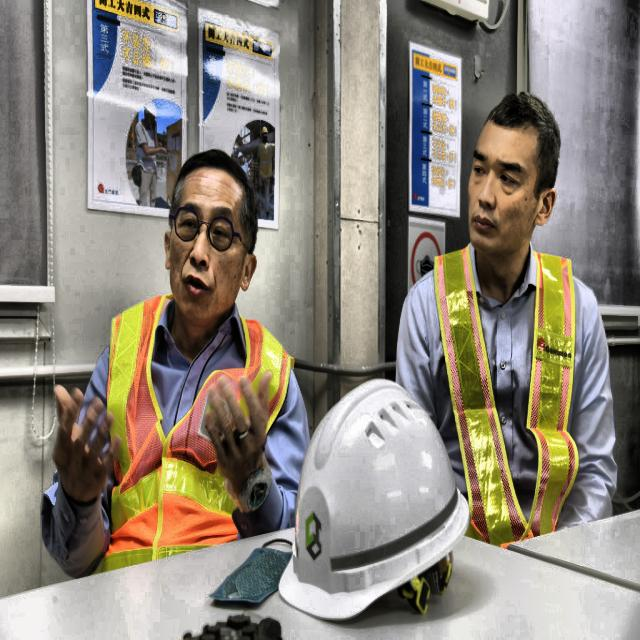safety_helmet: (277, 375, 472, 625)
safety_jacket: (95, 292, 297, 576), (433, 243, 581, 550)
